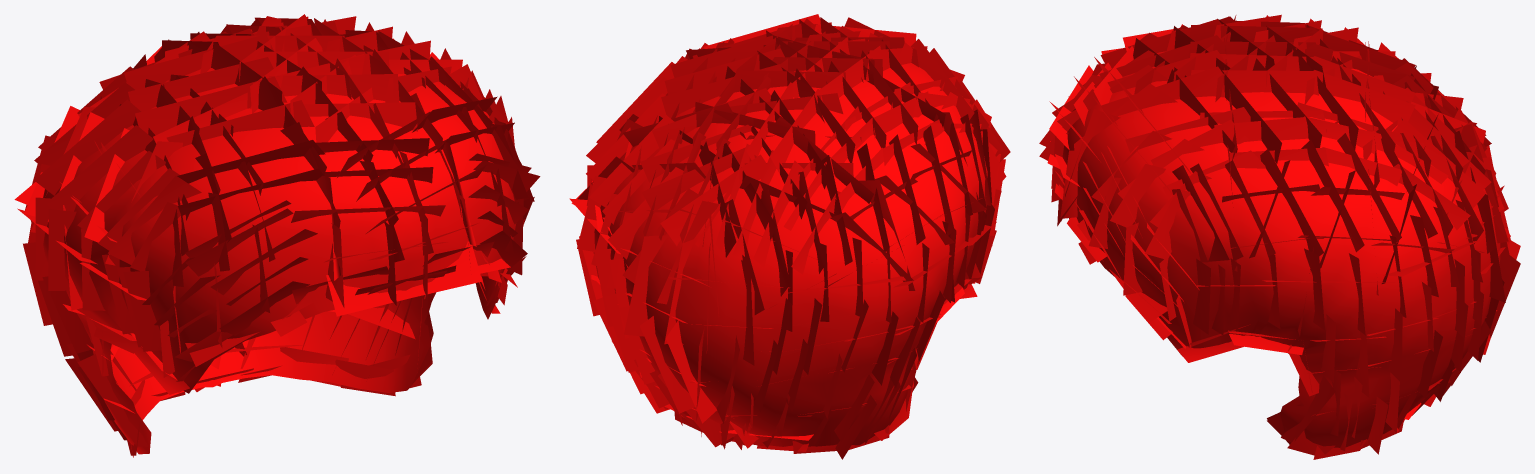
Rendered from afro01_F.glb.
3 renders of one model, left to right at view 1: azimuth 30°, elevation 25°; view 2: azimuth 150°, elevation 25°; view 3: azimuth 270°, elevation 25°, orthographic. The views are drawn at different scales.
Bounding box in the file's own units: 0.2125 × 0.1941 × 0.2323.
Materials: 1 (1 with a texture image).
